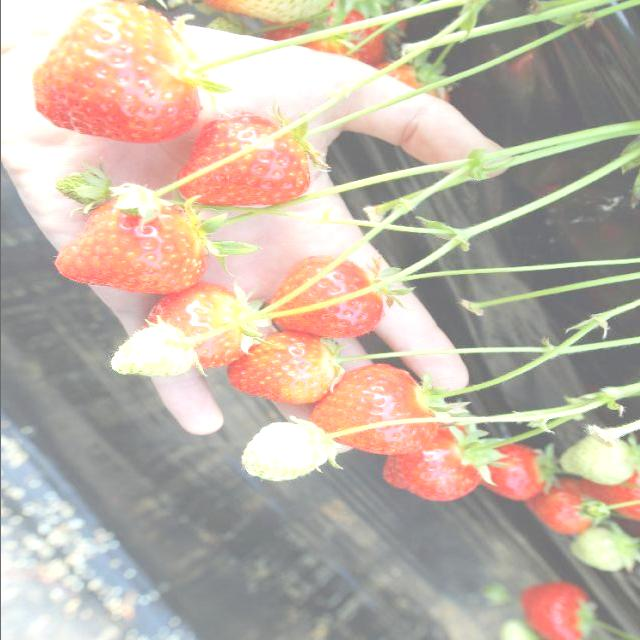ripe: (31, 0, 204, 143), (46, 186, 212, 295), (172, 111, 316, 212), (306, 365, 434, 460), (264, 255, 388, 339), (378, 422, 491, 505), (157, 276, 257, 368), (222, 332, 344, 406), (512, 580, 599, 640), (524, 480, 604, 538), (486, 442, 550, 499)
unripe: (232, 416, 342, 486), (93, 326, 188, 386), (560, 430, 632, 488), (567, 526, 636, 576)
